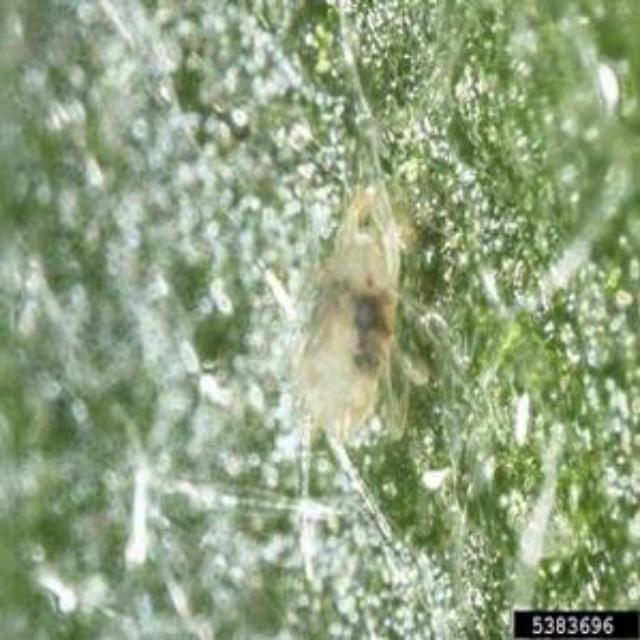spider mite: (218, 179, 480, 479)
